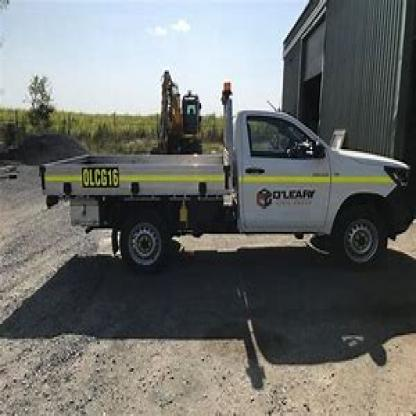light_vehicle: (44, 90, 412, 276)
